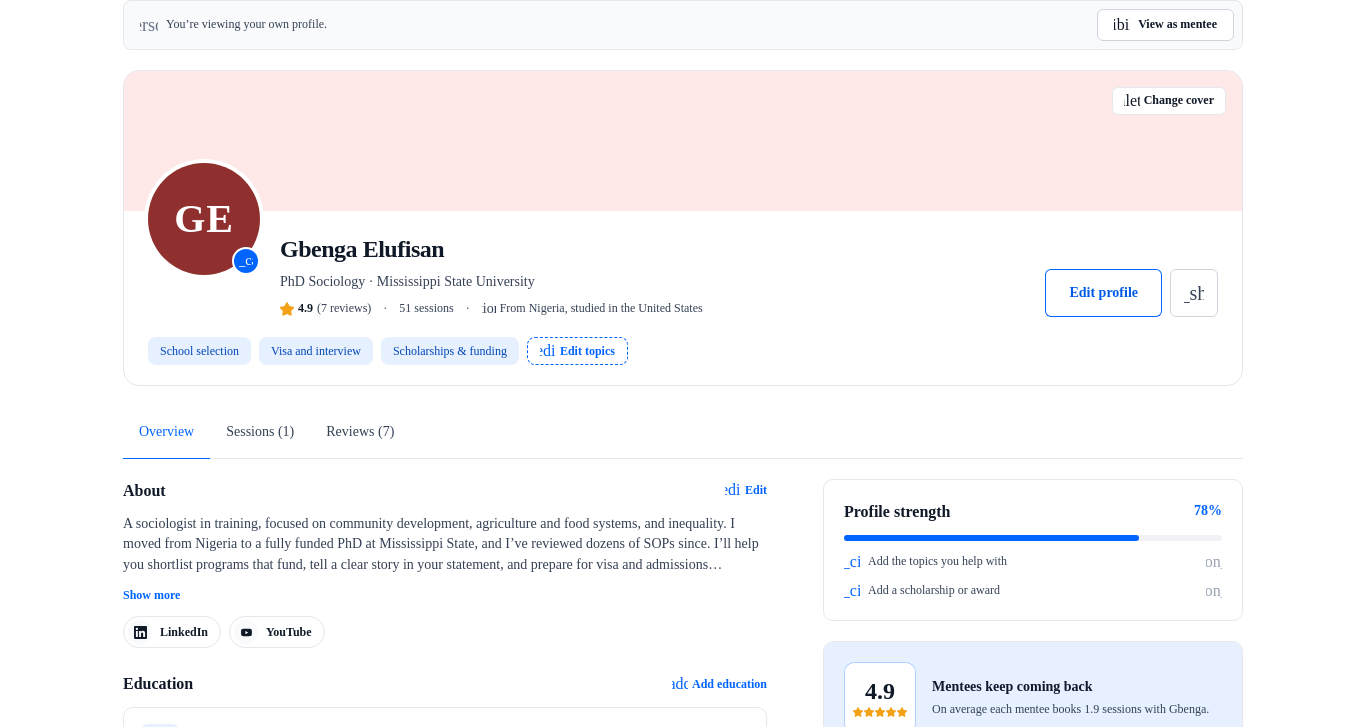
MentorProfileScreen — Profile strength › a topics save from its tip: focus on "Edit topics" (Codex on PR 106)
Click the button "add_circle Add the topics you help with chevron_right": (937, 561) [844,553,1222,570]
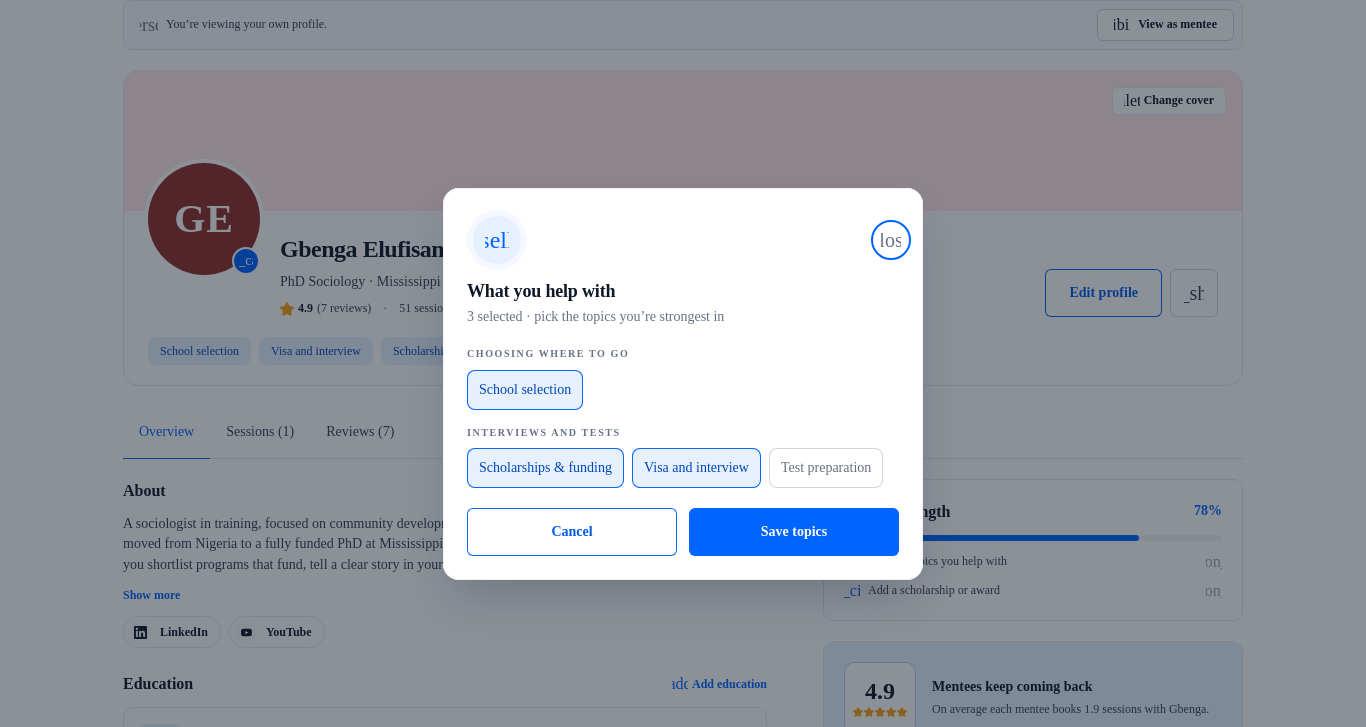
Click the button "Test preparation": (826, 468) [769,448,883,488]
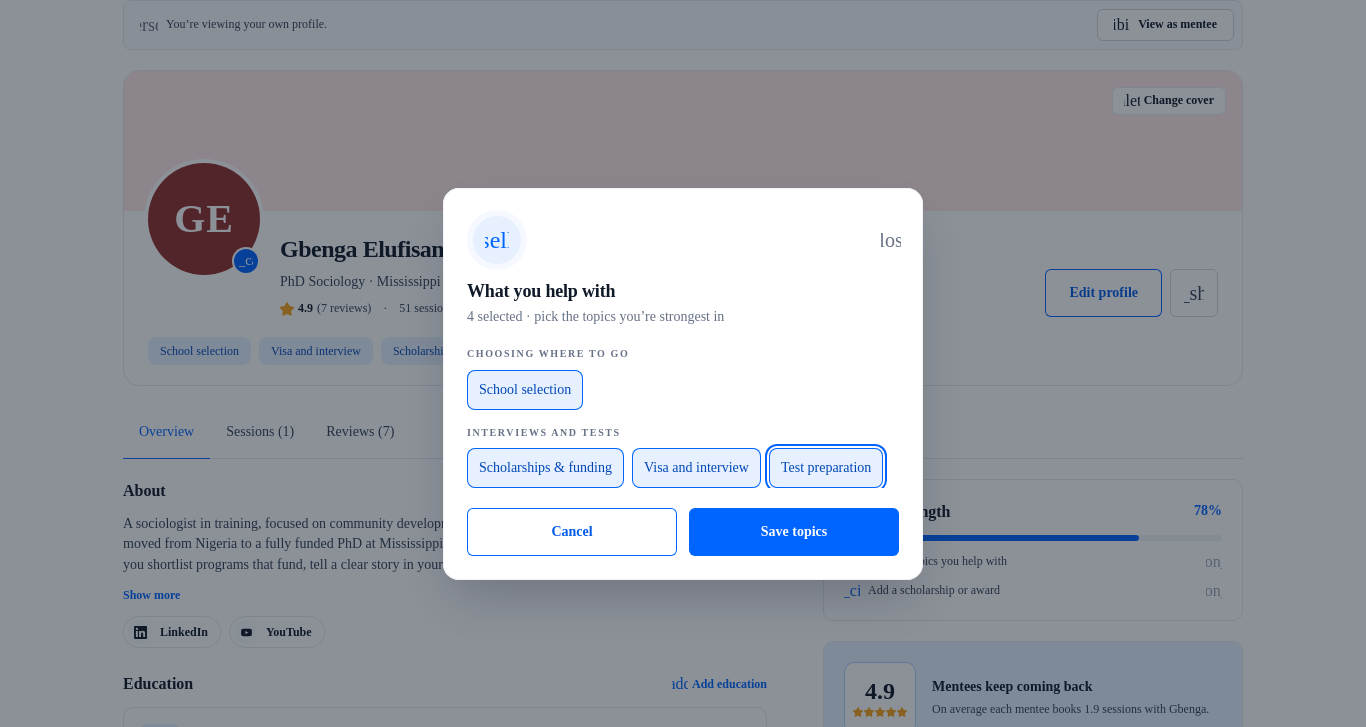
Click the button "Save topics": (794, 532) [689,508,899,556]
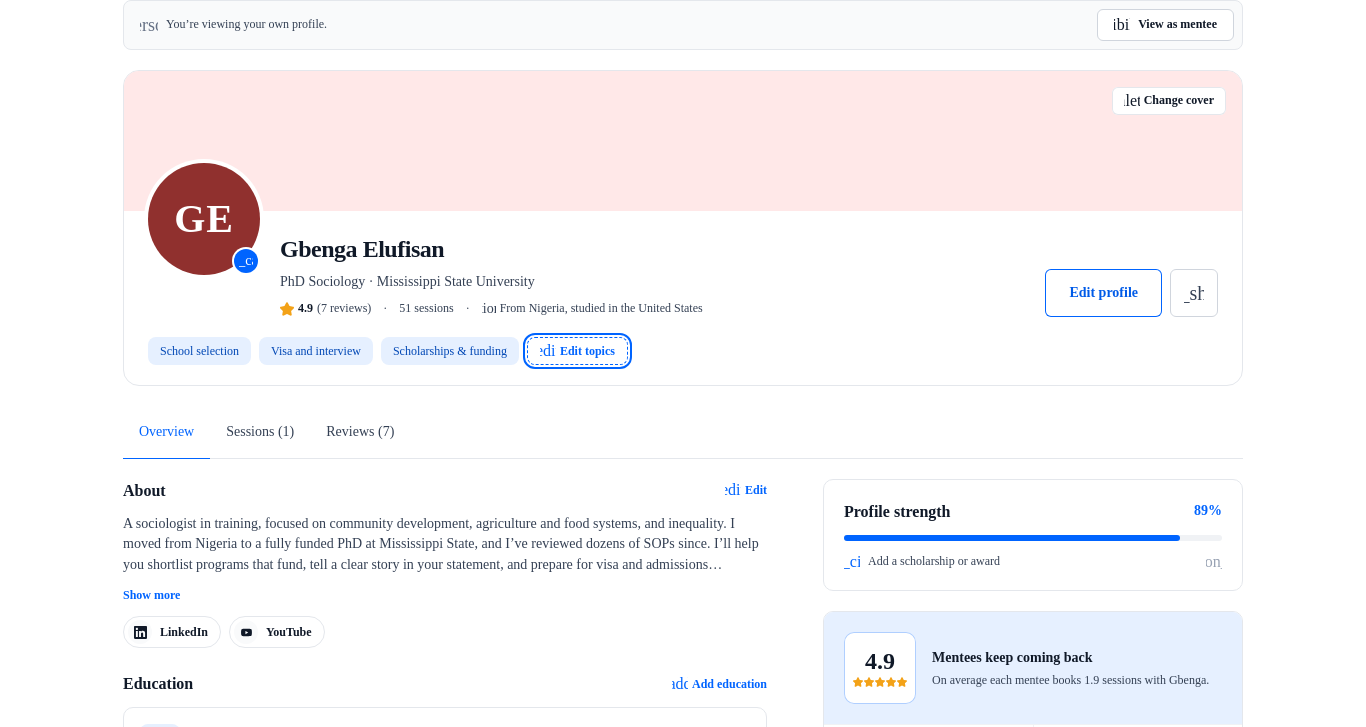
Now the dialog is gone
